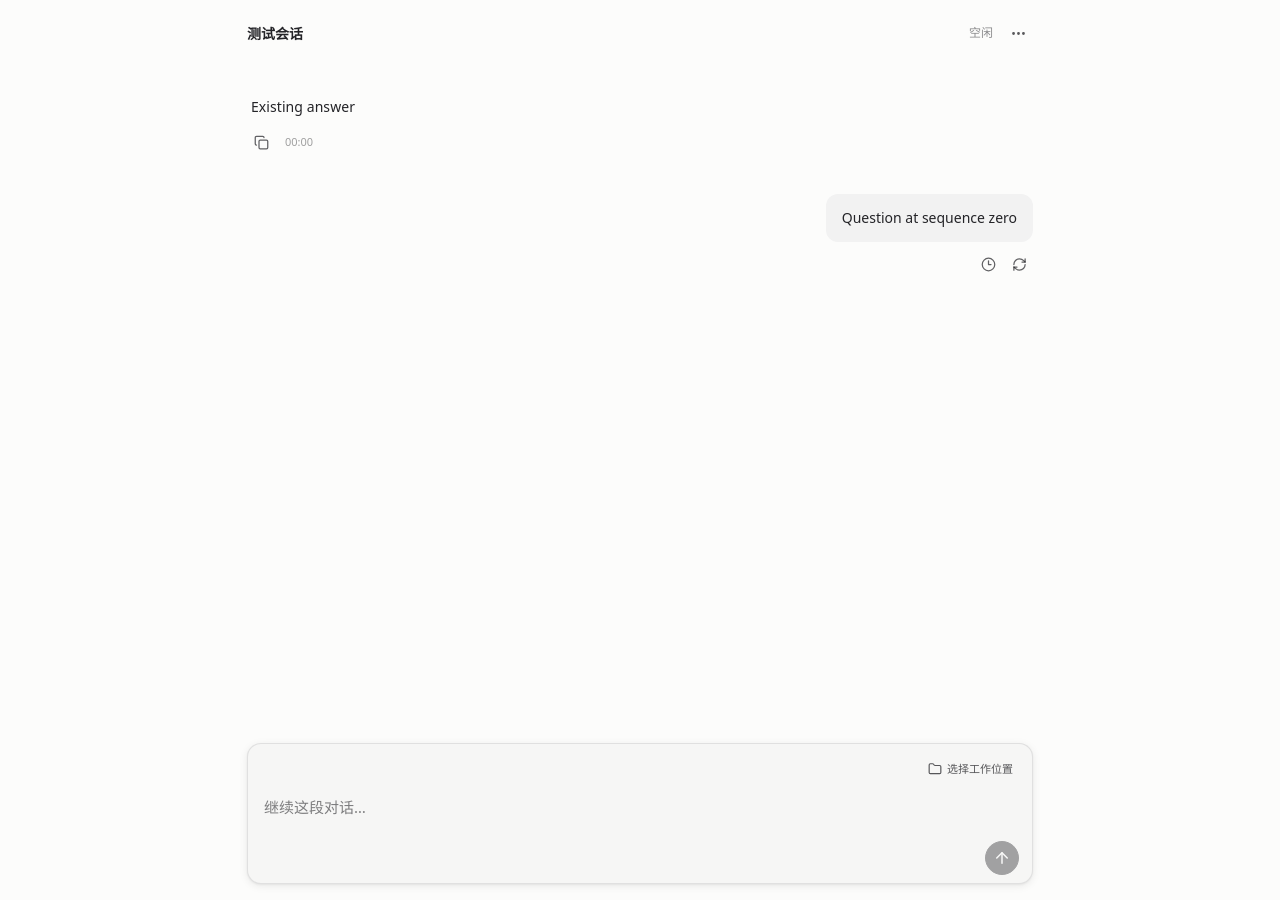
持久化发送回执对账 › 按编号恢复漏过的seq0正文并保留已有回答，不重拉整段历史
Expected: the text "Existing answer" is shown, [251,97,355,116]
Click the button named "检查发送状态" at [1019, 265], box [1005,251,1033,279]
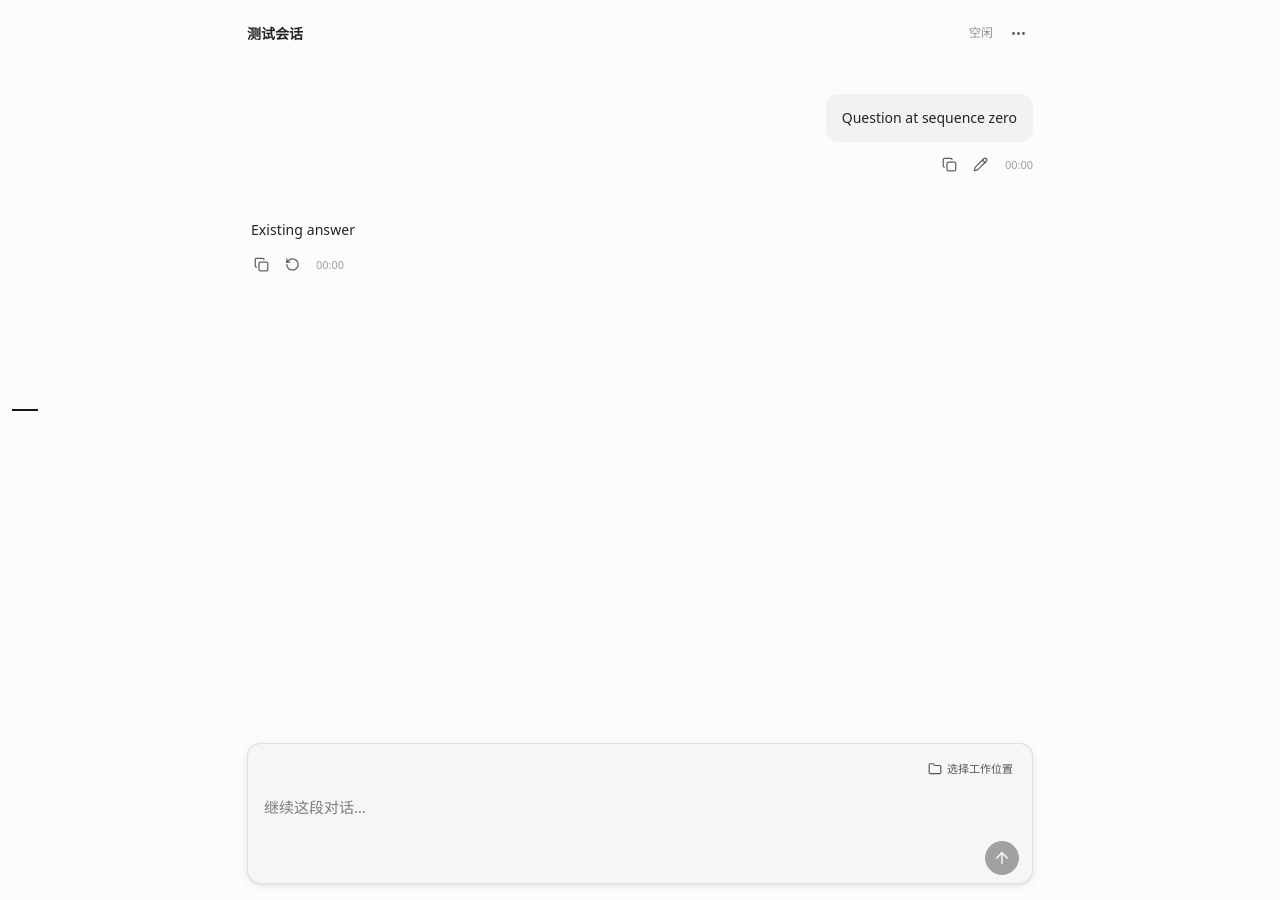
Expected: the element with test id "pending-message" is gone
Expected: the text "Question at sequence zero" is shown once, [842,106,1017,130]
